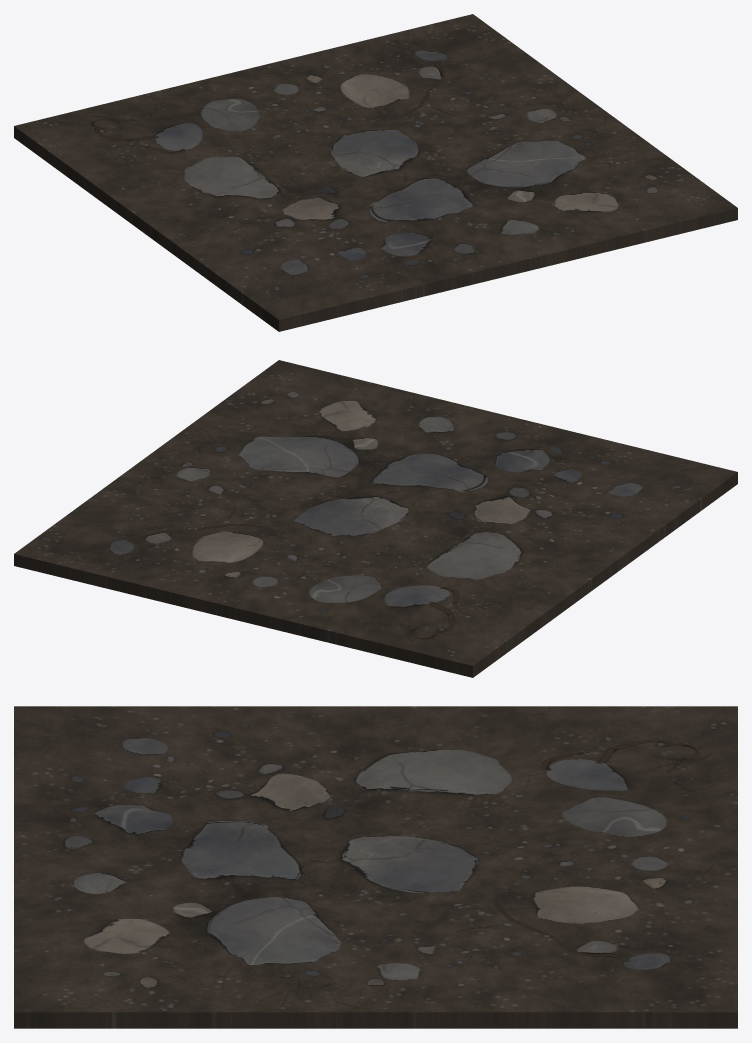
File: cavern_floor_a.glb
3 views of the same model, one above another, from view 1: azimuth 30°, elevation 25°; view 2: azimuth 150°, elevation 25°; view 3: azimuth 270°, elevation 25° (orthographic). The views are drawn at different scales.
Visible parts, largest first — view 1: cavern_floor_a; view 2: cavern_floor_a; view 3: cavern_floor_a.
Boxes of the visible parts, box(x1,y1,x2,y2) form: cavern_floor_a: box(14, 14, 737, 331); cavern_floor_a: box(14, 360, 737, 677); cavern_floor_a: box(14, 706, 737, 1028).
Size of the model in its own units: 4 by 0.14 by 4.
Materials: 1 (1 with a texture image).
